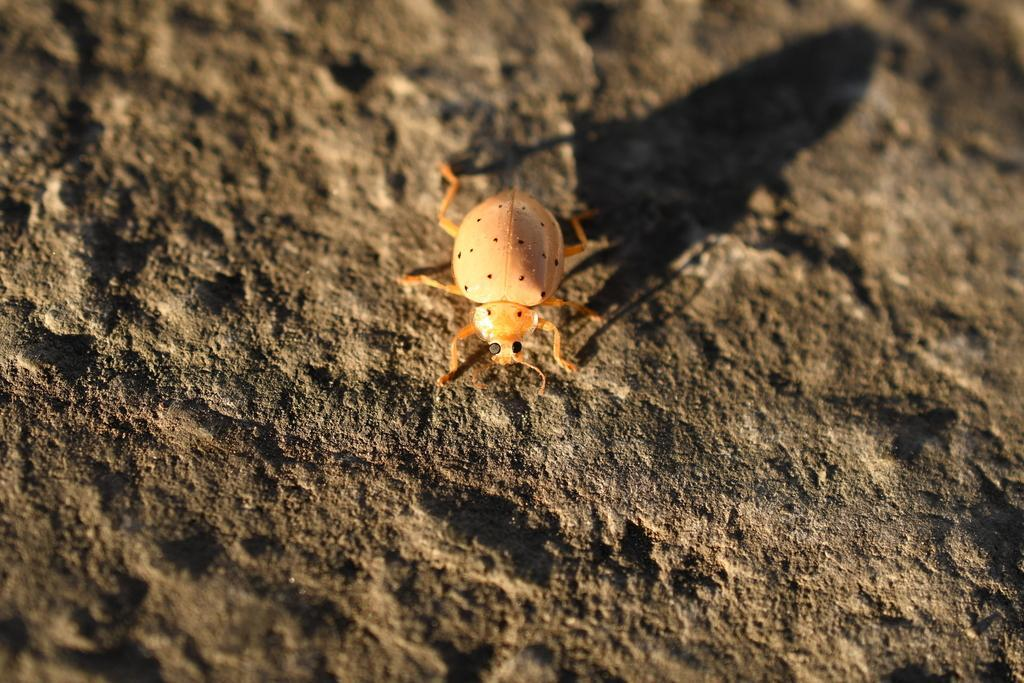ladybug: (397, 161, 605, 399)
